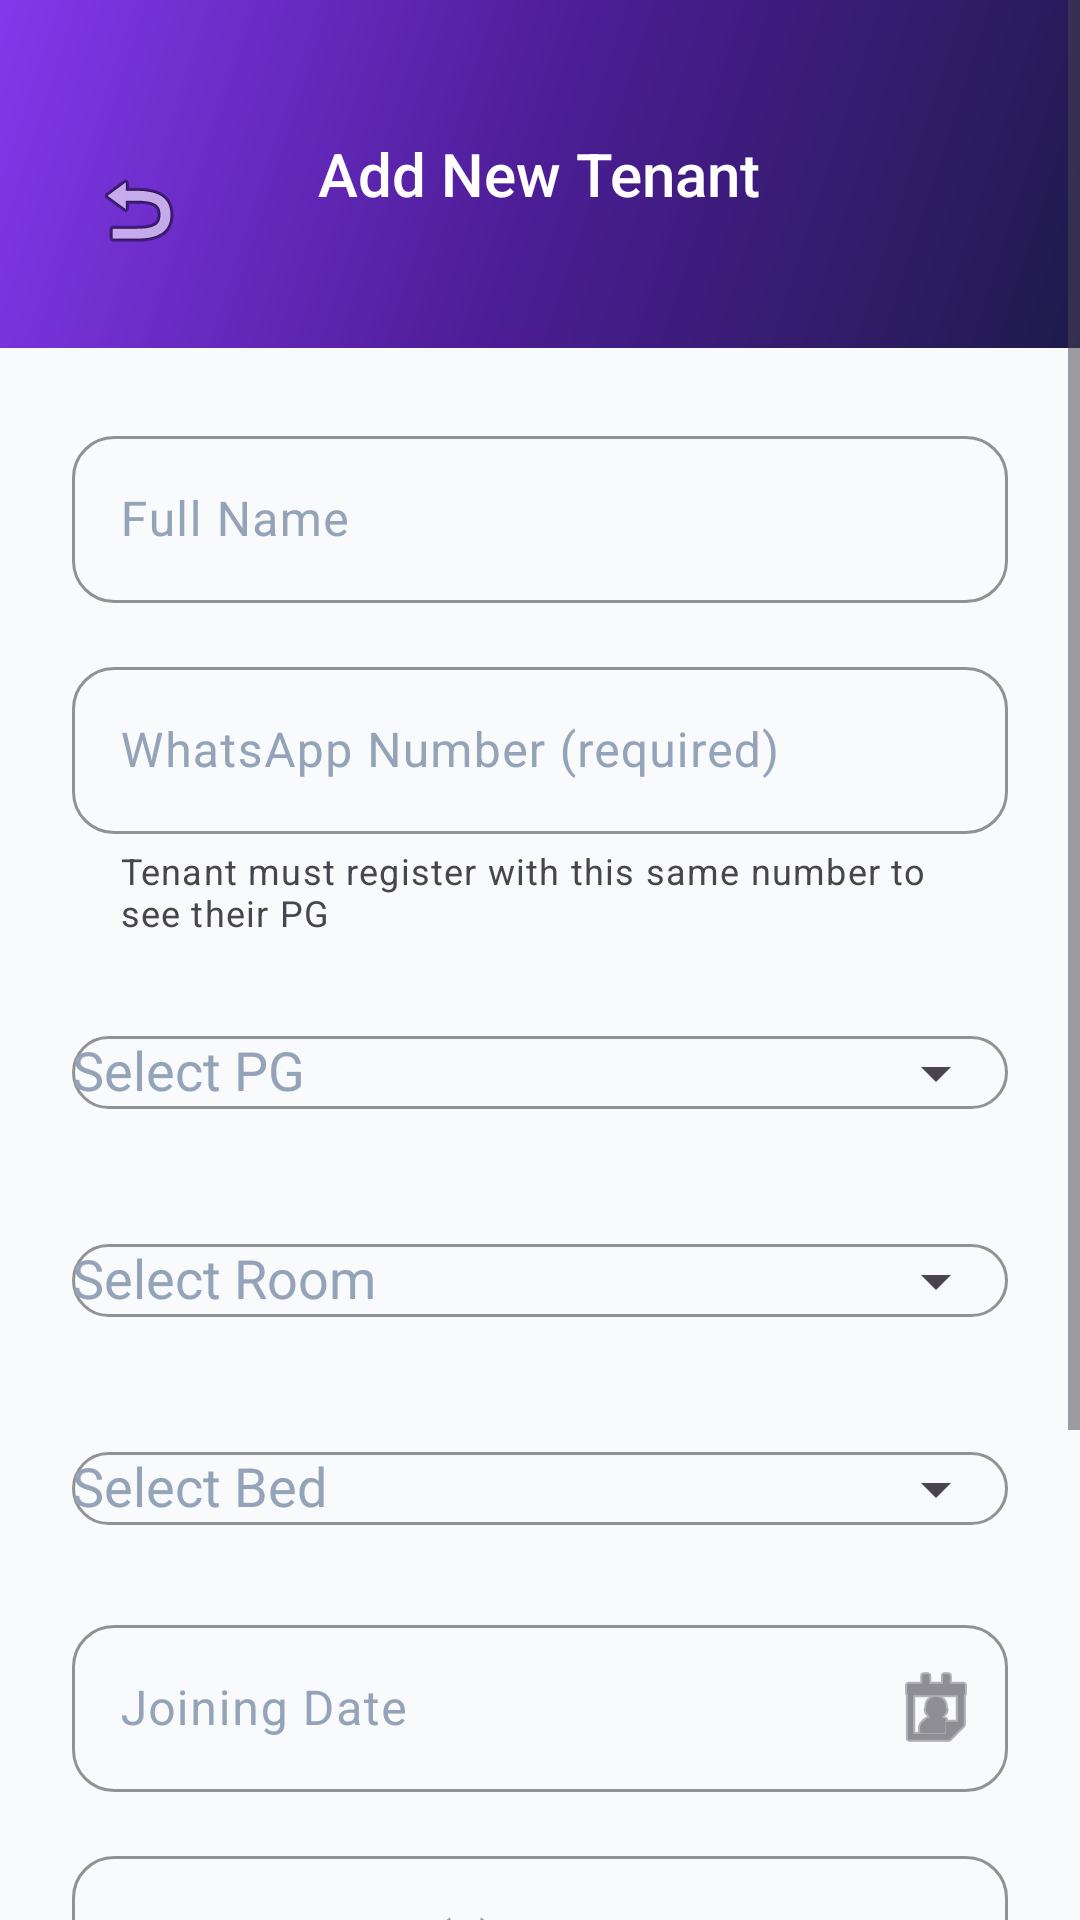

Where to tap for icons on this 1080px x 1920px app screen, as [x,y]:
Back: [139,211]
